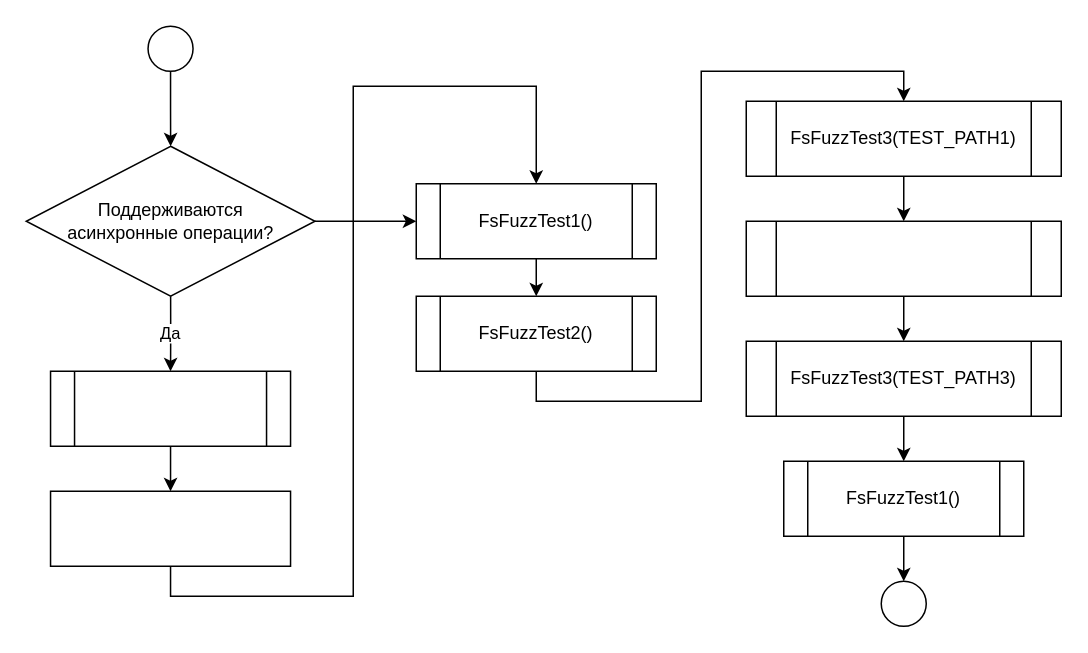
Some shapes in this 1088 by 653 pixel diagram are drawn without their labels. The centre of each missing label's shape, as x and y in pixels:
FsFuzzTest3(TEST_PATH2): the point at 903,258
FsFuzzTest4(): the point at 170,408
Дождаться завершения асинхронных операций: the point at 170,528
